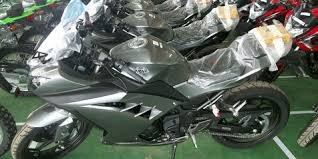motor: (18, 37, 315, 151)
